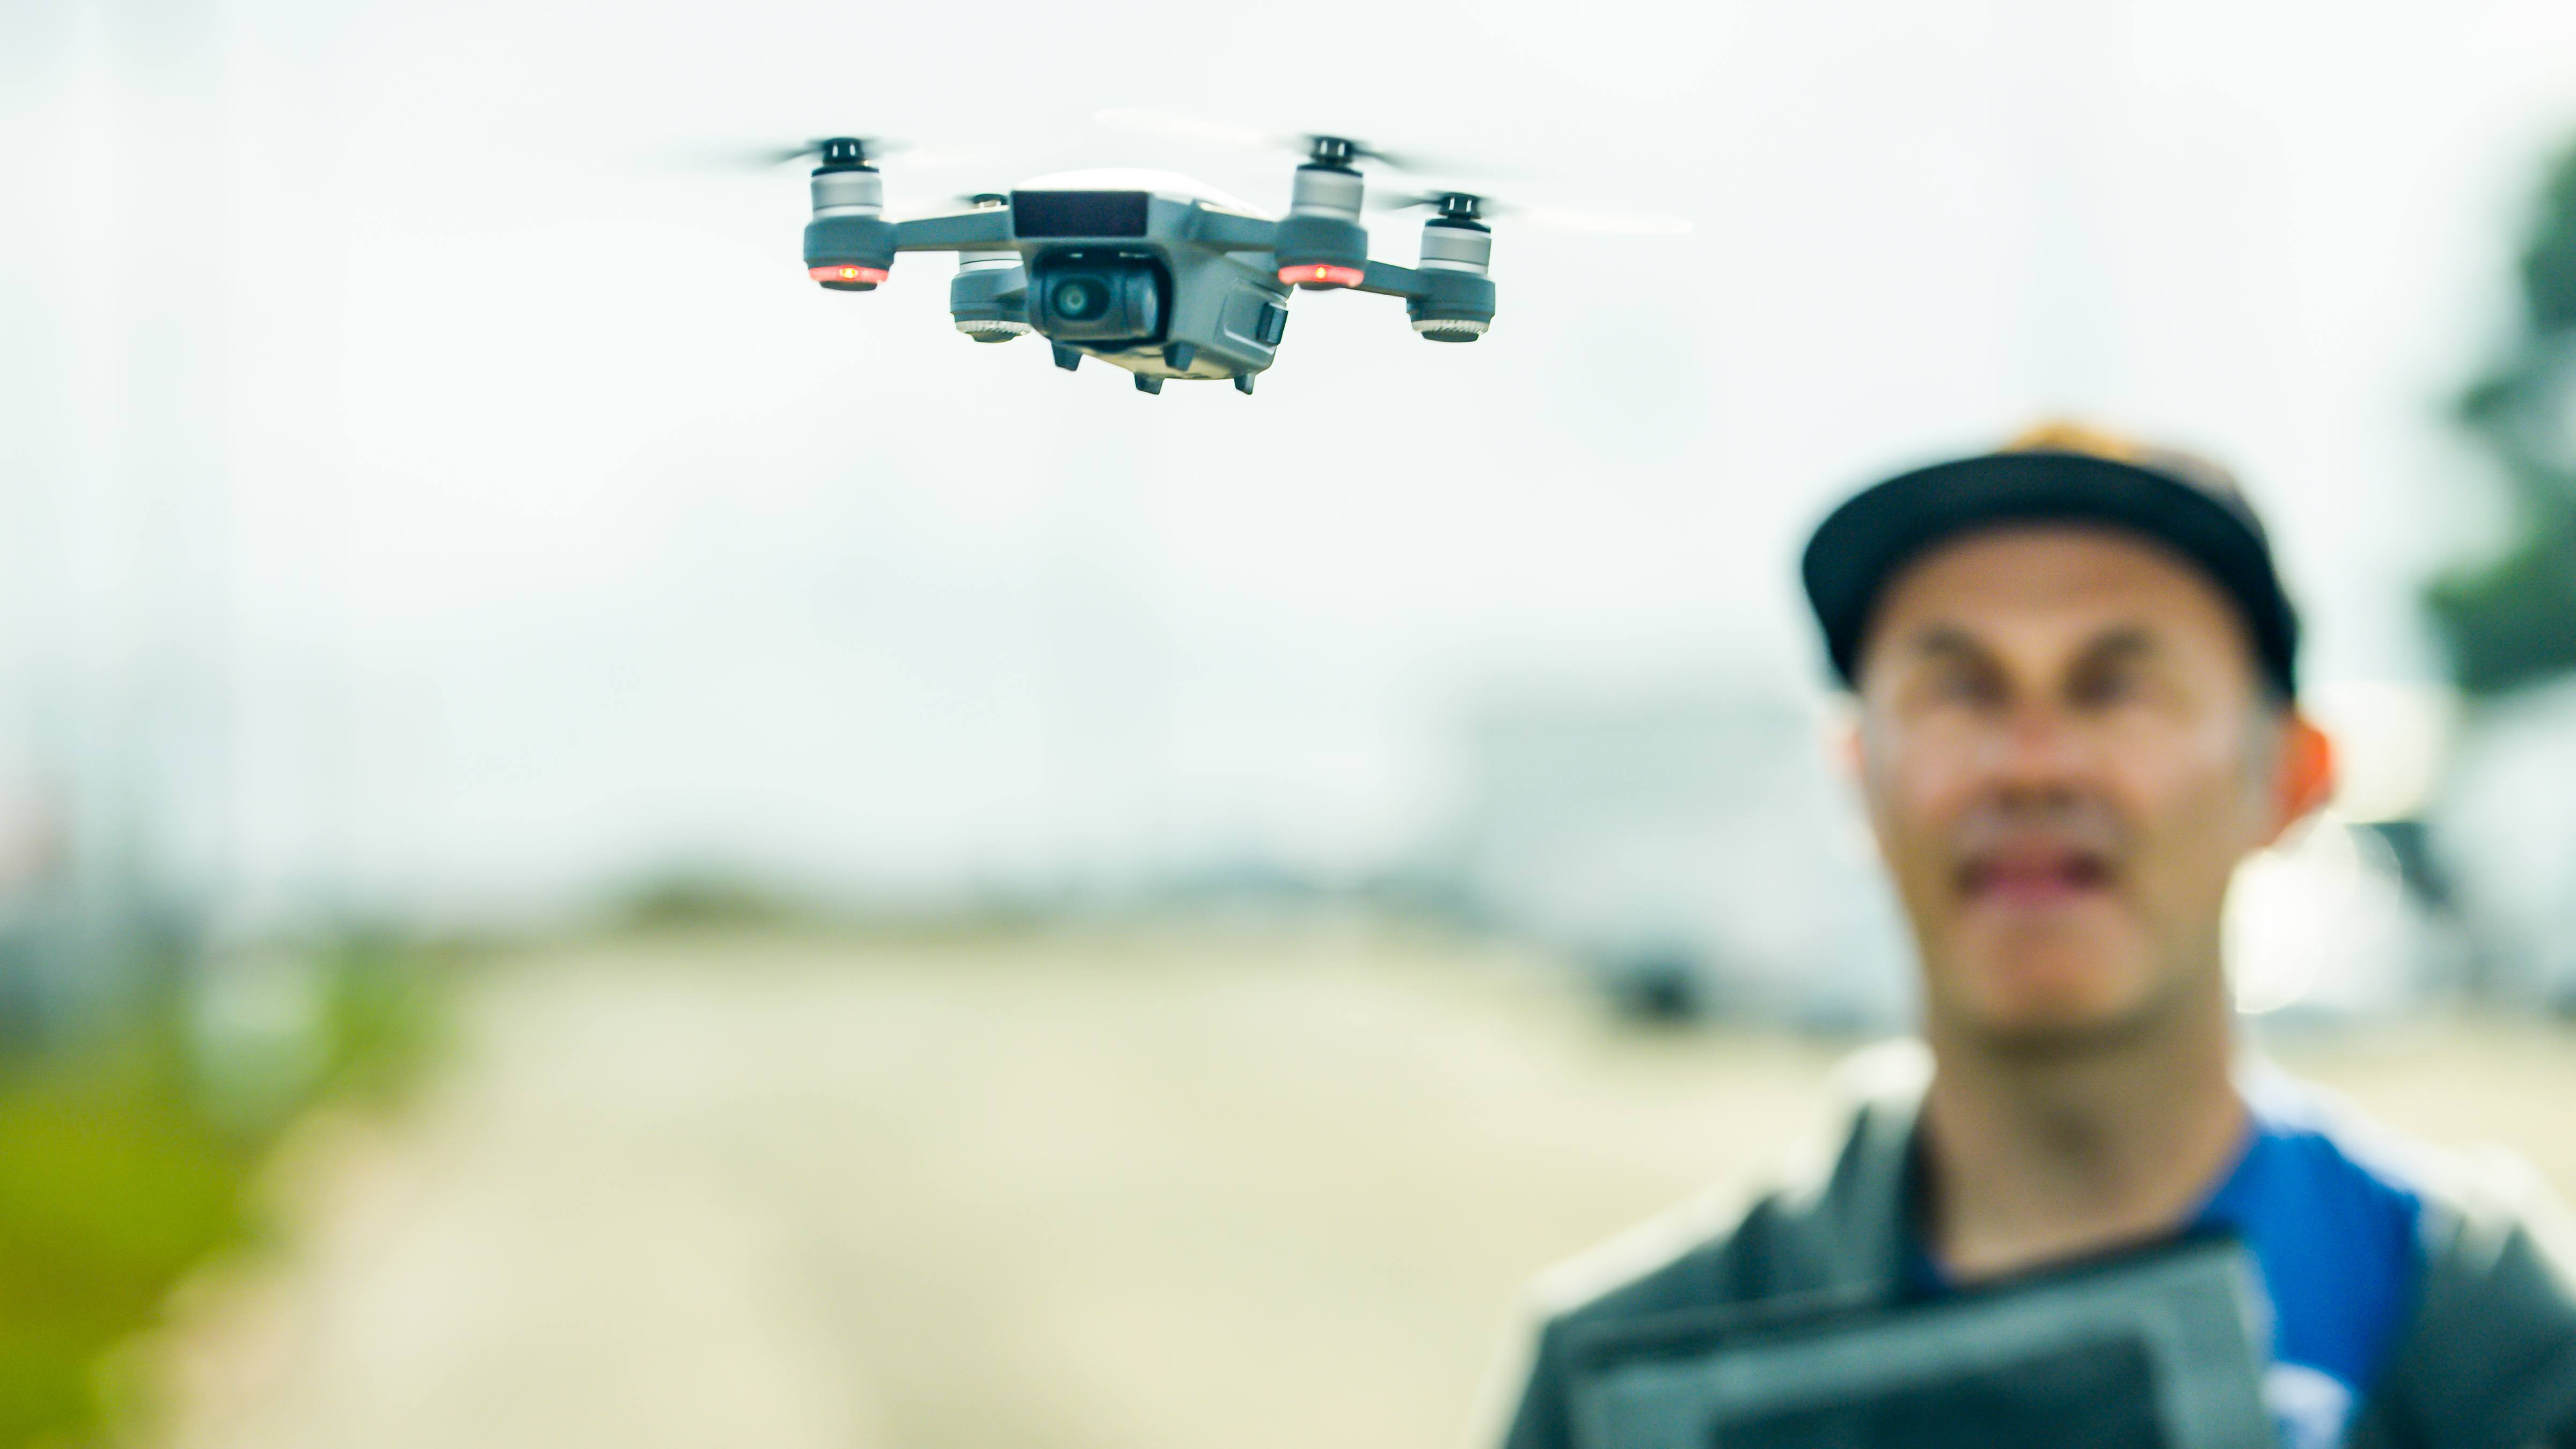drone: (719, 127, 1529, 401)
person: (1485, 419, 2576, 1449)
